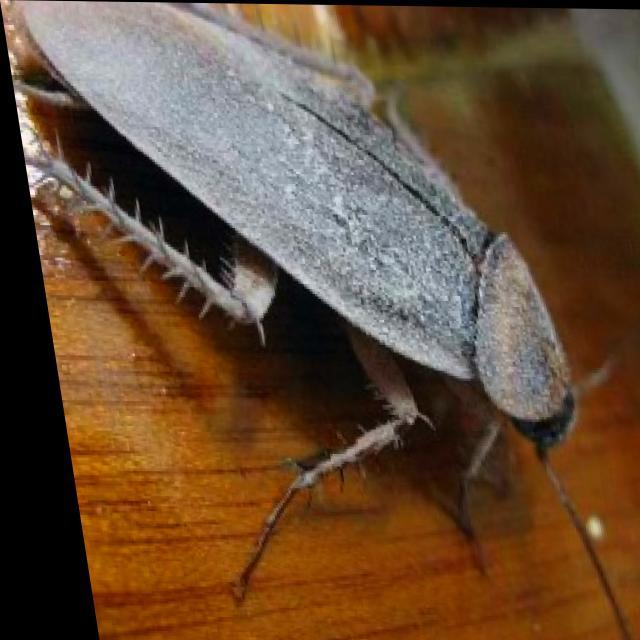cockroach: (8, 4, 629, 632)
